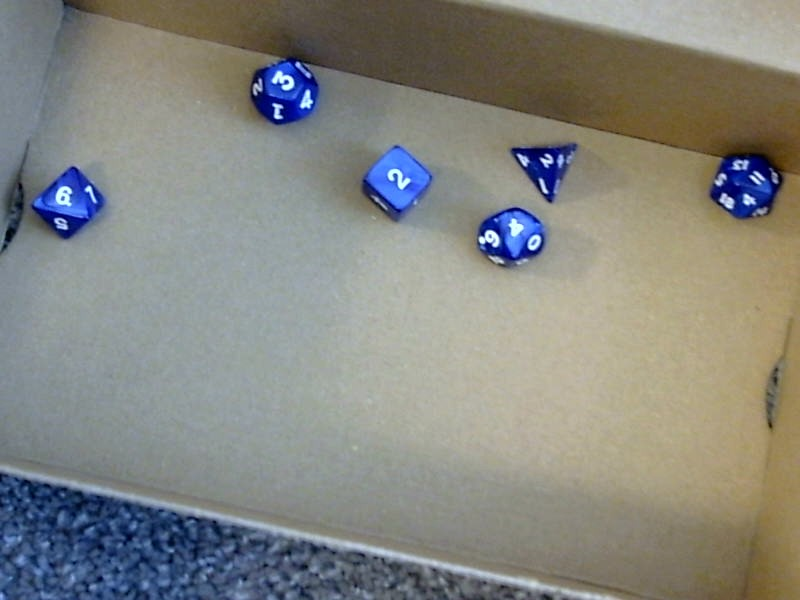d10 4: (470, 206, 551, 273)
d12 3: (239, 54, 323, 129)
d20 11: (706, 142, 785, 227)
d4 2: (507, 134, 581, 205)
d6 2: (357, 136, 435, 222)
d8 6: (29, 161, 112, 247)
